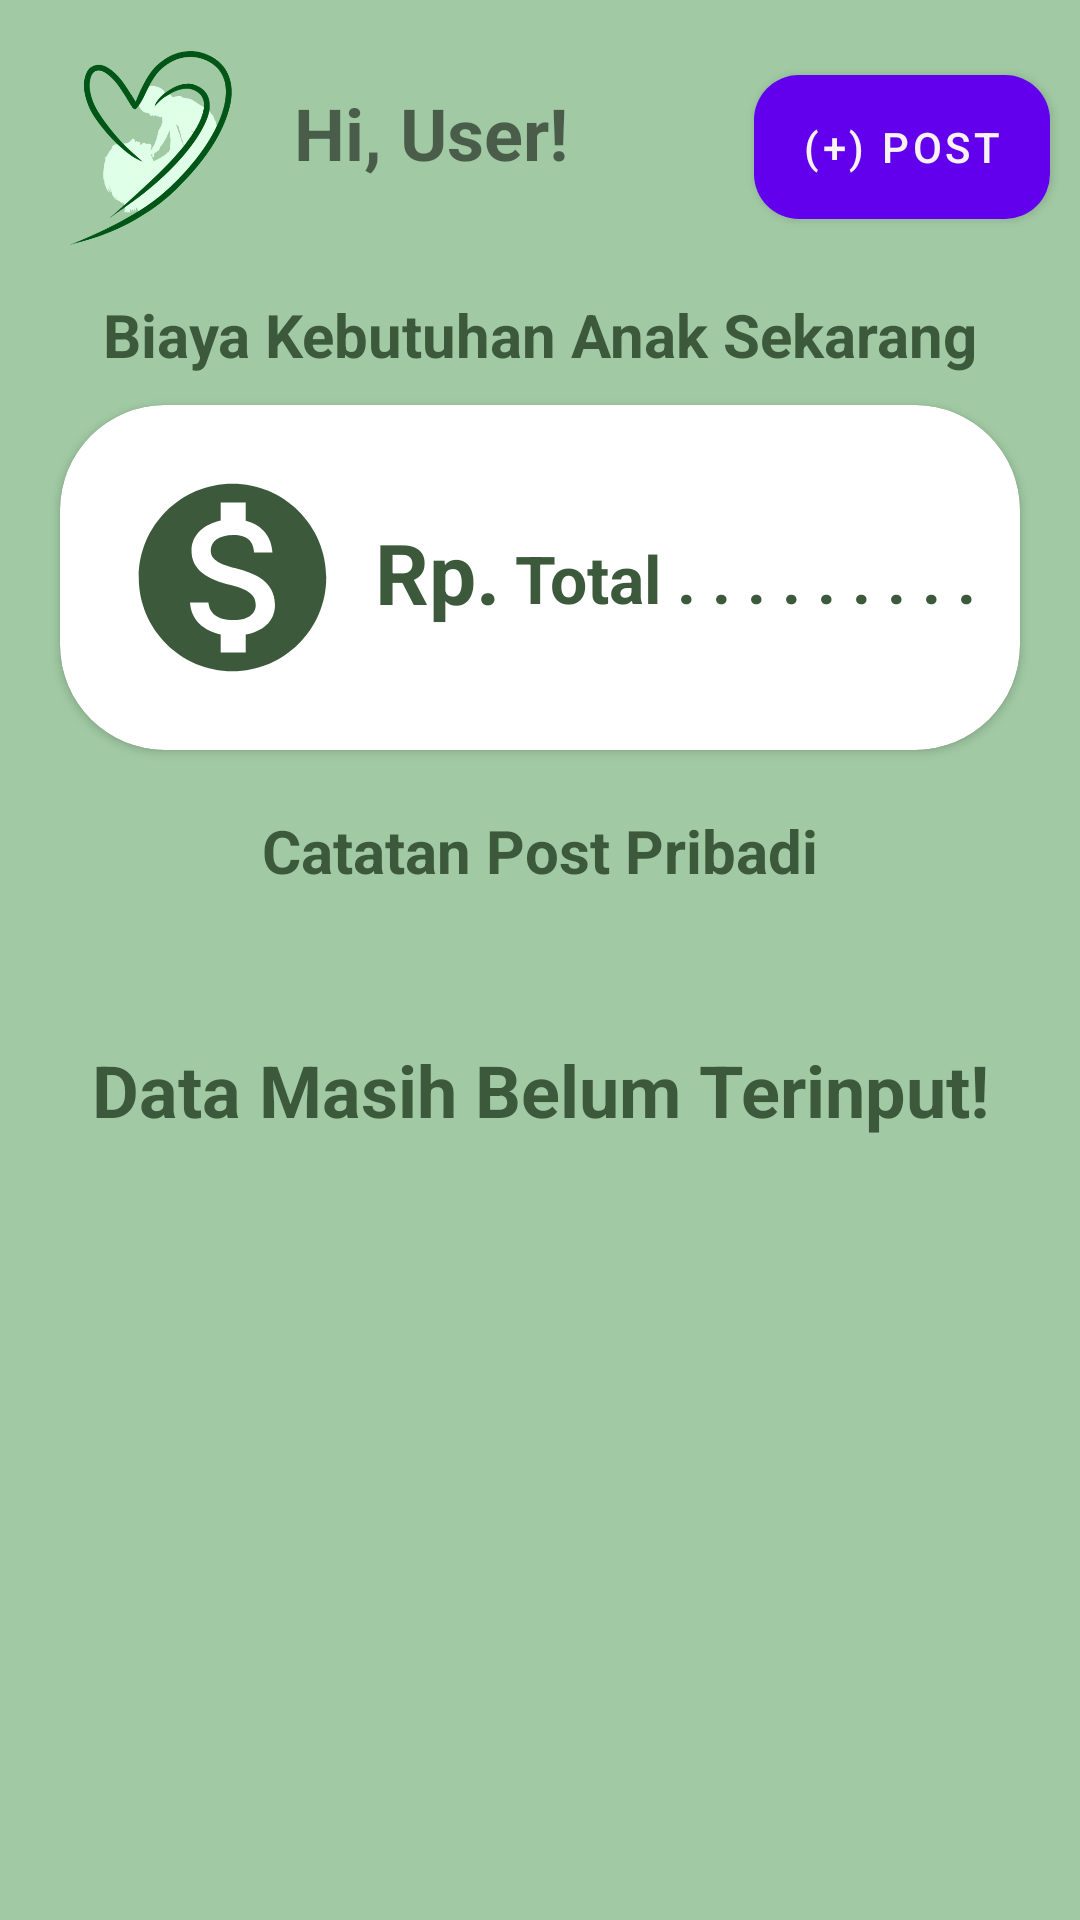

Where to tap for icons on this 1080 x 1920 app screen, as (x=x, y=y):
money: (x=232, y=577)
